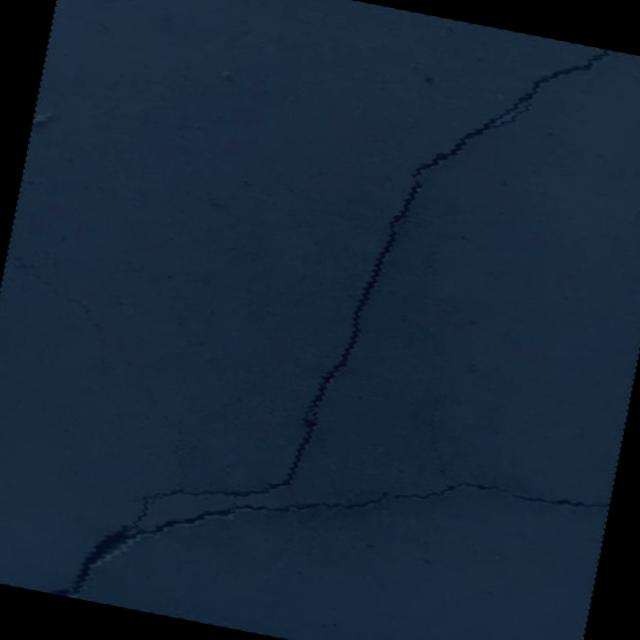crack: (49, 0, 640, 640), (0, 236, 125, 363)
